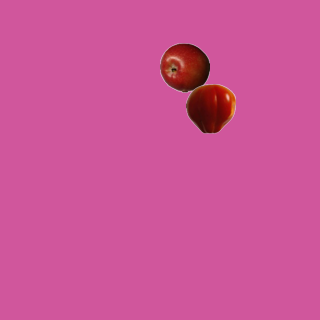Apple Braeburn: (159, 42, 209, 92)
Tomato 1: (185, 83, 235, 133)
